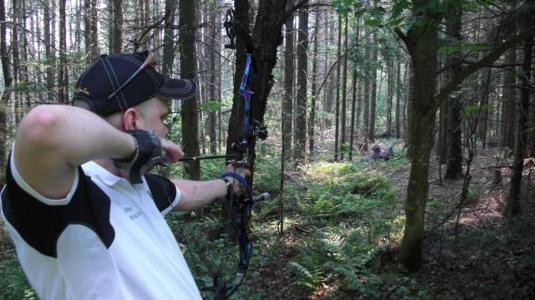person: (3, 54, 252, 298)
